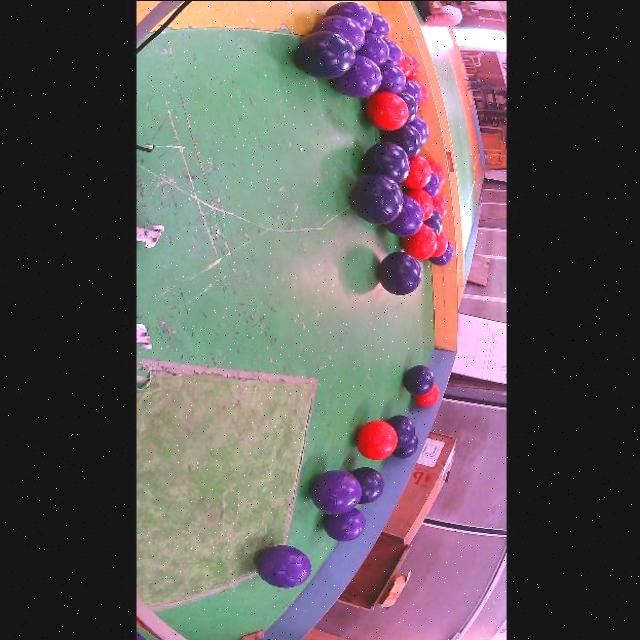B: (297, 30, 356, 78), (352, 172, 405, 224), (379, 251, 424, 295), (363, 141, 411, 181), (385, 122, 424, 156), (352, 467, 385, 503), (387, 414, 416, 448), (405, 364, 435, 395), (393, 433, 420, 458), (399, 91, 419, 121), (425, 207, 445, 234)
P: (311, 469, 362, 514), (258, 544, 312, 586), (331, 54, 383, 96), (314, 14, 366, 50), (386, 194, 425, 235), (327, 1, 374, 31), (325, 507, 366, 540), (358, 32, 390, 64), (380, 59, 407, 94), (429, 242, 455, 265), (410, 116, 430, 143), (369, 12, 390, 37), (424, 170, 442, 197), (404, 77, 423, 102), (386, 39, 403, 64), (137, 630, 148, 640)
R: (366, 91, 410, 130), (357, 419, 398, 459), (402, 224, 438, 259), (403, 154, 433, 188), (408, 188, 434, 219), (414, 382, 441, 406), (429, 159, 447, 184), (434, 230, 450, 256), (399, 51, 415, 76), (416, 80, 430, 105), (433, 193, 448, 216), (408, 54, 421, 77)
